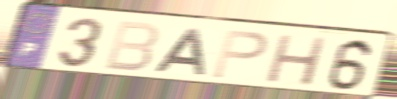3: (53, 16, 104, 70)
6: (326, 37, 376, 92)
A: (151, 27, 209, 77)
B: (101, 19, 161, 74)
H: (263, 32, 331, 88)
P: (209, 28, 271, 81)
